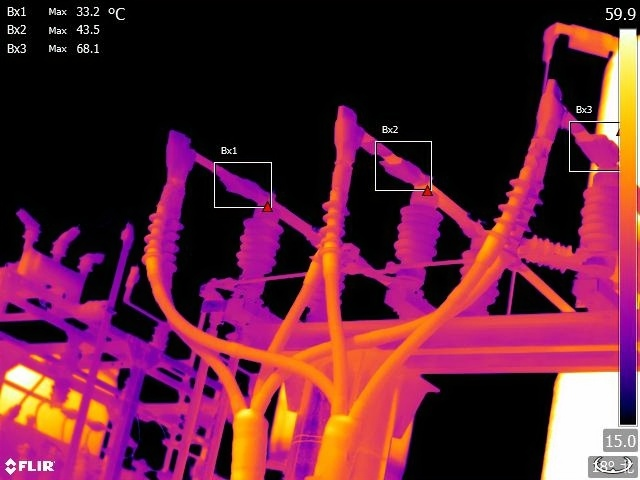post insulator: (383, 200, 446, 260), (231, 215, 291, 276), (526, 231, 571, 274)
switch: (412, 176, 488, 243), (245, 195, 323, 238)
transformer: (571, 180, 622, 259), (302, 277, 351, 325)
tube: (488, 171, 547, 246), (138, 204, 179, 268), (317, 189, 352, 257)
